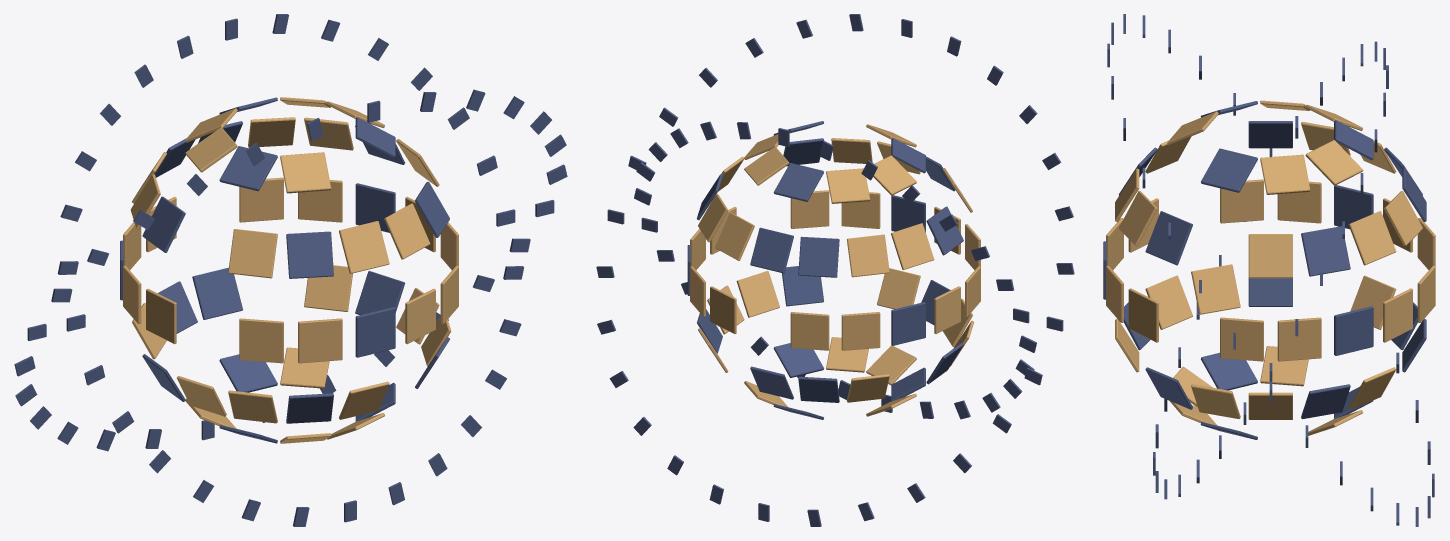
The model's file is orb4_dyson_panel_shell.glb.
3 renders of one model, left to right at view 1: azimuth 30°, elevation 25°; view 2: azimuth 150°, elevation 25°; view 3: azimuth 270°, elevation 25°, orthographic. The views are drawn at different scales.
Parts seen in each view (by area): view 1: orb4_dyson_panel_shell__orb3-brushed-brass, orb4_dyson_panel_shell__orb3-indigo-glaze; view 2: orb4_dyson_panel_shell__orb3-brushed-brass, orb4_dyson_panel_shell__orb3-indigo-glaze; view 3: orb4_dyson_panel_shell__orb3-brushed-brass, orb4_dyson_panel_shell__orb3-indigo-glaze.
Boxes of the visible parts, box(x1,y1,x2,y2) form: orb4_dyson_panel_shell__orb3-brushed-brass: box(123, 97, 458, 443); orb4_dyson_panel_shell__orb3-indigo-glaze: box(14, 14, 567, 526); orb4_dyson_panel_shell__orb3-brushed-brass: box(690, 124, 980, 416); orb4_dyson_panel_shell__orb3-indigo-glaze: box(596, 14, 1074, 526); orb4_dyson_panel_shell__orb3-brushed-brass: box(1106, 100, 1435, 435); orb4_dyson_panel_shell__orb3-indigo-glaze: box(1103, 14, 1434, 526).
Bounding box in the file's own units: 53.8 × 44.72 × 30.07.
